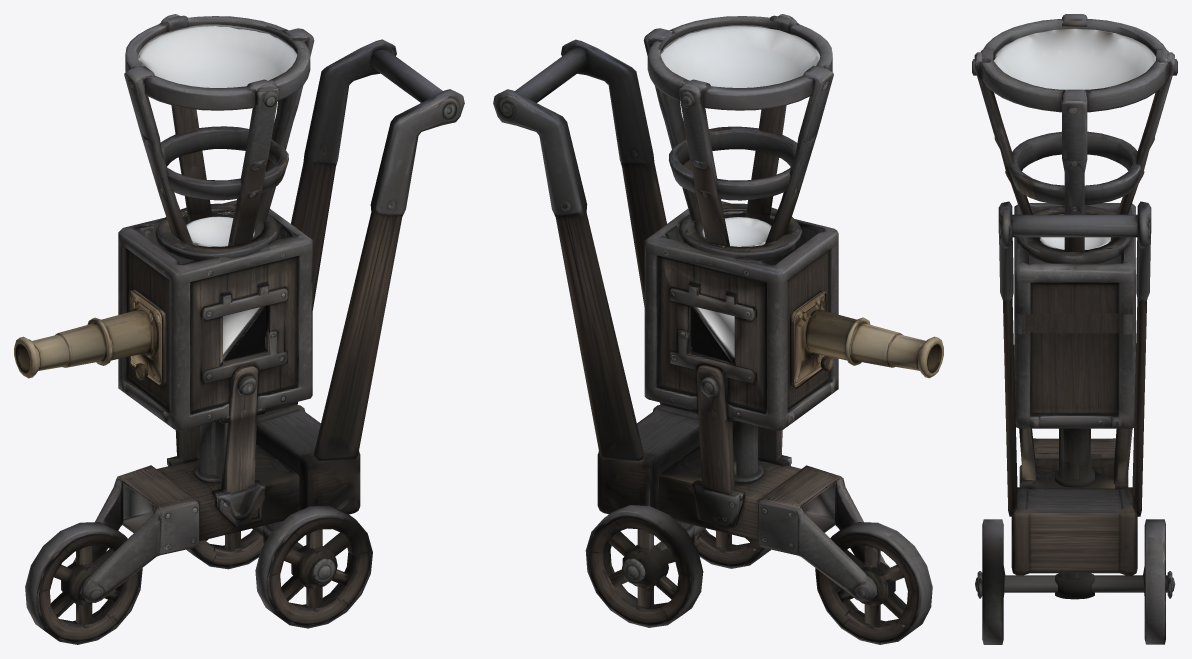
File: Reflector.fbx
3 renders of one model, left to right at view 1: azimuth 30°, elevation 25°; view 2: azimuth 150°, elevation 25°; view 3: azimuth 270°, elevation 25°, orthographic.
Parts seen in each view (by area): view 1: ReflectorBody, Reflector_LeftWheel, Reflector_FrontWheel, Reflector_RightWheel; view 2: ReflectorBody, Reflector_RightWheel, Reflector_FrontWheel, Reflector_LeftWheel; view 3: ReflectorBody, Reflector_LeftWheel, Reflector_RightWheel.
Boxes of the visible parts, box(x1,y1,x2,y2) form: ReflectorBody: box(14, 14, 464, 602); Reflector_LeftWheel: box(255, 505, 372, 628); Reflector_FrontWheel: box(25, 522, 142, 644); Reflector_RightWheel: box(186, 529, 263, 569); ReflectorBody: box(493, 14, 943, 601); Reflector_RightWheel: box(585, 505, 703, 627); Reflector_FrontWheel: box(815, 522, 932, 644); Reflector_LeftWheel: box(694, 529, 770, 568); ReflectorBody: box(972, 14, 1177, 599); Reflector_LeftWheel: box(982, 519, 1005, 644); Reflector_RightWheel: box(1143, 519, 1165, 644).
Size of the model in its own units: 0.8086 by 1.06 by 0.3532.
